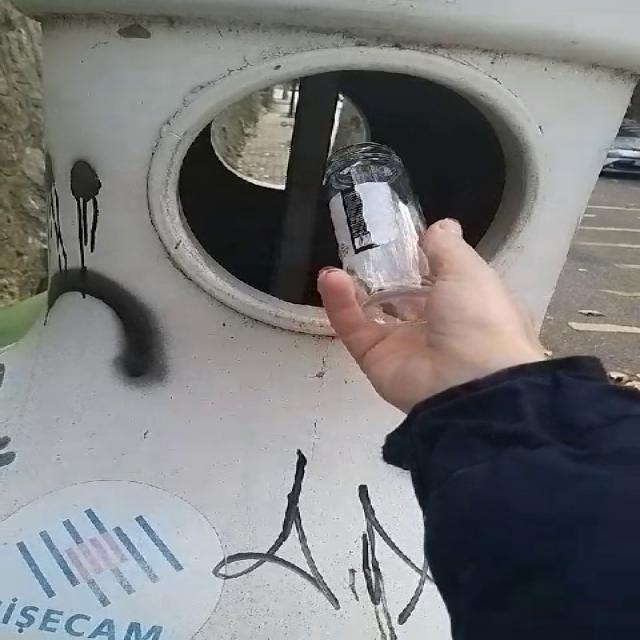Glass: (324, 142, 428, 325)
